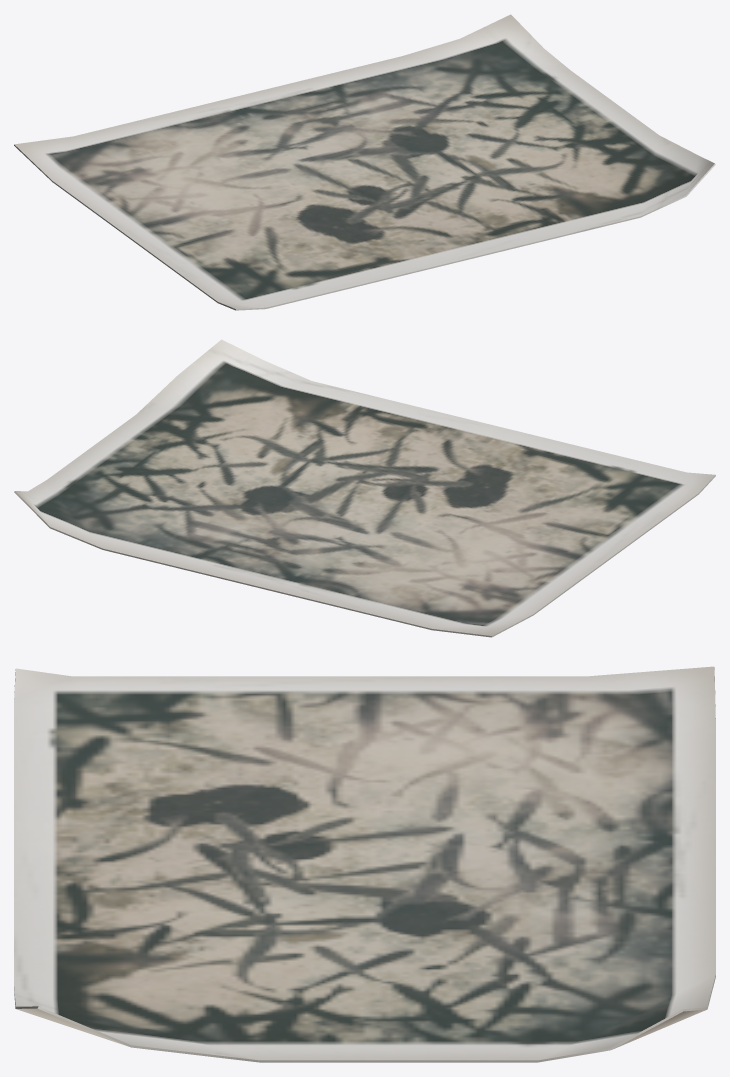
The model's file is Picture_7_Large.FBX.
3 views of the same model, one above another, from view 1: azimuth 30°, elevation 25°; view 2: azimuth 150°, elevation 25°; view 3: azimuth 270°, elevation 25° (orthographic). The views are drawn at different scales.
Parts seen in each view (by area): view 1: Picture_7_Large; view 2: Picture_7_Large; view 3: Picture_7_Large.
Boxes of the visible parts, bbox=[...] form: Picture_7_Large: bbox=[14, 14, 715, 310]; Picture_7_Large: bbox=[14, 339, 715, 637]; Picture_7_Large: bbox=[14, 666, 715, 1062].
Bounding box in the file's own units: 38.49 × 2.08 × 29.72.
